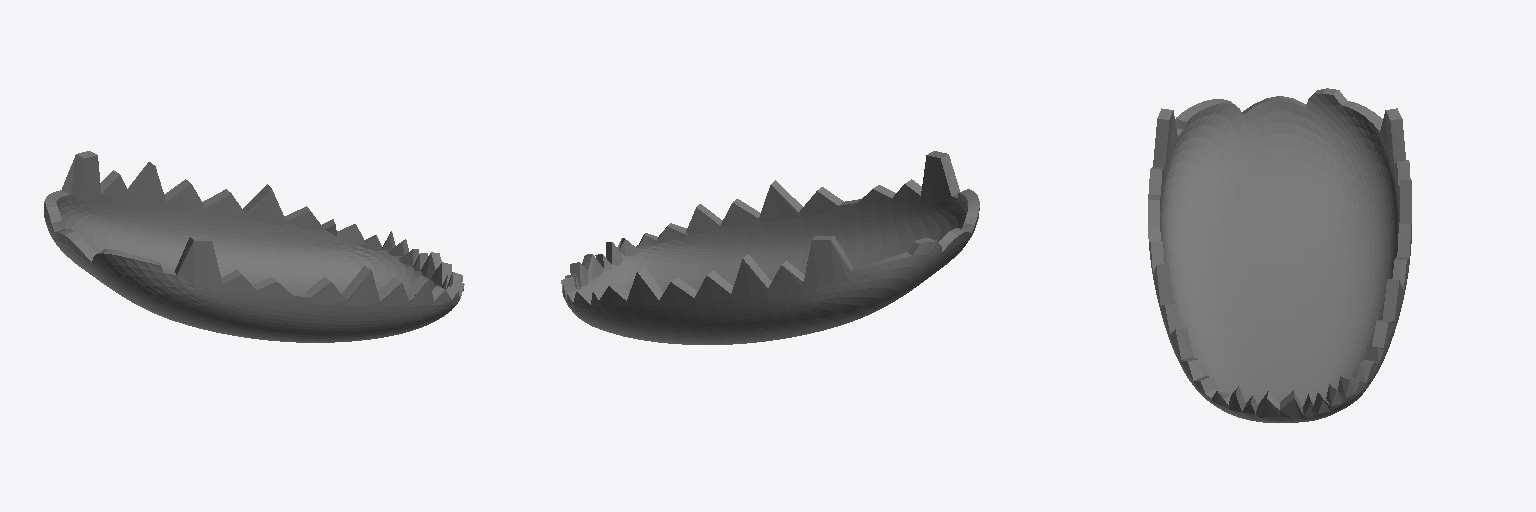
The model's file is goddard_mandibula.obj.
3 views of the same model, side by side, from view 1: azimuth 30°, elevation 25°; view 2: azimuth 150°, elevation 25°; view 3: azimuth 270°, elevation 25° (orthographic).
Visible parts, largest first — view 1: mandibula; view 2: mandibula; view 3: mandibula.
Part boxes in pixels (bbox=[...]): mandibula: bbox=[44, 151, 464, 342]; mandibula: bbox=[561, 151, 979, 344]; mandibula: bbox=[1148, 88, 1411, 422].
Size of the model in its own units: 2.68 by 1.19 by 1.61.